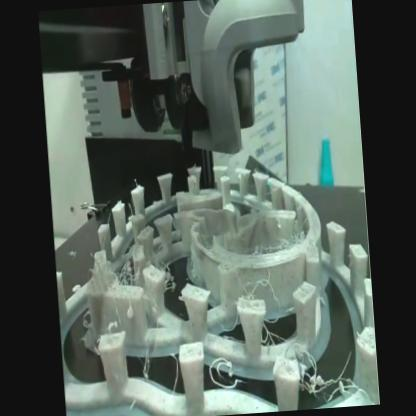fail: (302, 352, 359, 409), (141, 343, 186, 394), (108, 255, 140, 302), (209, 356, 245, 391), (254, 235, 308, 258), (157, 253, 180, 305)
